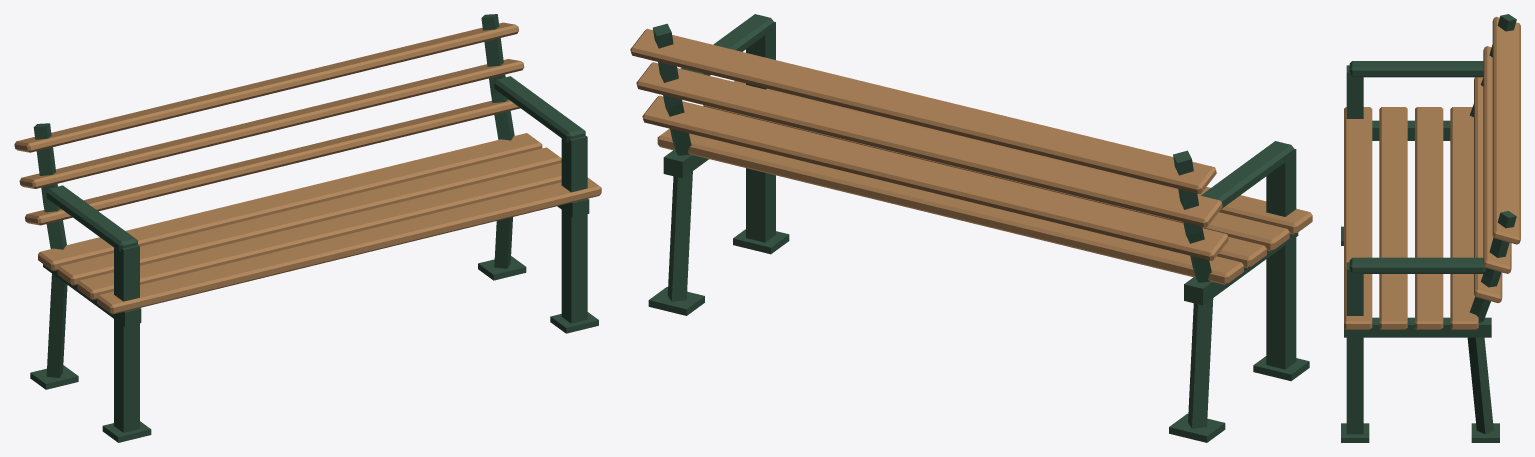
File: park-bench.glb
The picture shows the model from 3 angles, left to right: view 1: azimuth 30°, elevation 25°; view 2: azimuth 150°, elevation 25°; view 3: azimuth 270°, elevation 25°; orthographic projection. The views are drawn at different scales.
Parts seen in each view (by area): view 1: park-bench; view 2: park-bench; view 3: park-bench.
Boxes of the visible parts, left/top/right/bottom form: park-bench: left=14, top=14, right=601, bottom=442; park-bench: left=630, top=14, right=1312, bottom=442; park-bench: left=1341, top=14, right=1520, bottom=442.
Bounding box in the file's own units: 1.8 × 0.87 × 0.6333.
